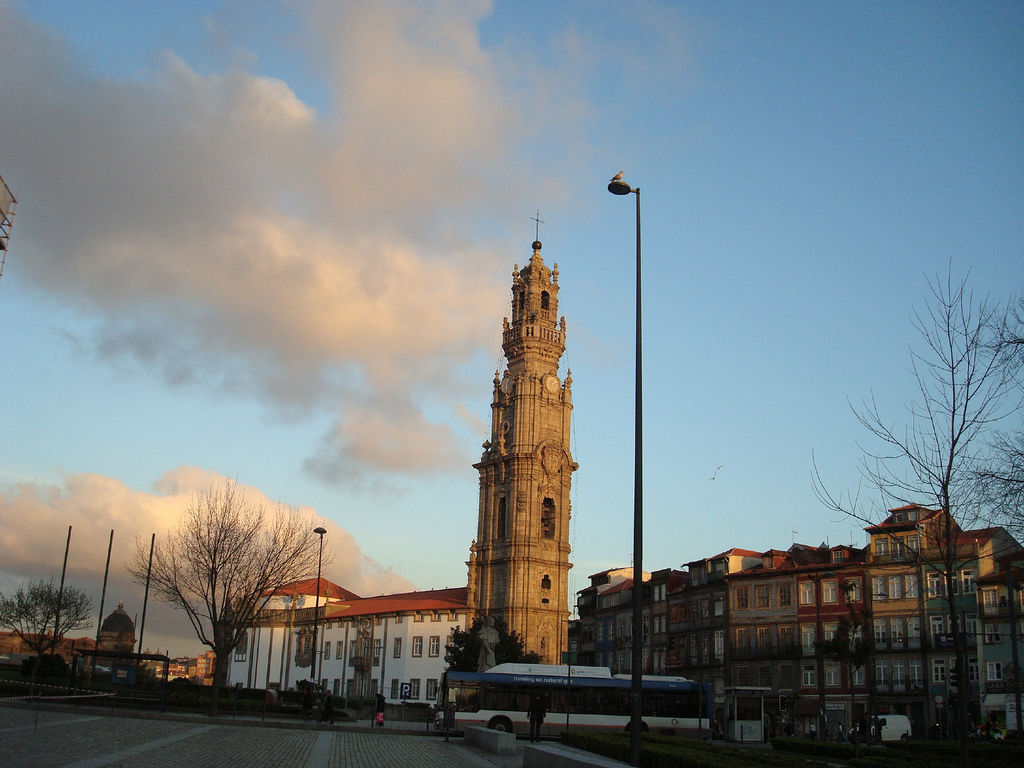clerigos: (459, 215, 582, 667)
